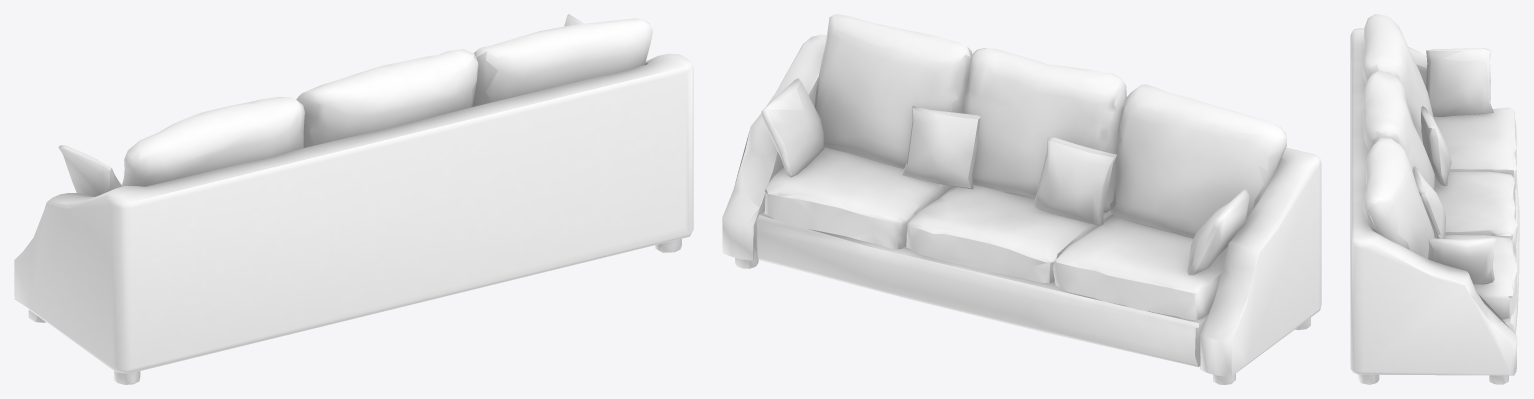
The model's file is Sofa.glb.
3 renders of one model, left to right at view 1: azimuth 30°, elevation 25°; view 2: azimuth 150°, elevation 25°; view 3: azimuth 270°, elevation 25°, orthographic. The views are drawn at different scales.
Parts seen in each view (by area): view 1: Sofa, Sofa.005, Sofa.001; view 2: Sofa, Sofa.004, Sofa.003, Sofa.002, Sofa.005, Sofa.001; view 3: Sofa, Sofa.005, Sofa.002, Sofa.004, Sofa.003, Sofa.001.
Part boxes in pixels (left/top/right/bottom): Sofa: left=14, top=18, right=693, bottom=373; Sofa.005: left=58, top=145, right=121, bottom=196; Sofa.001: left=28, top=238, right=681, bottom=384; Sofa: left=722, top=14, right=1321, bottom=377; Sofa.004: left=1033, top=137, right=1116, bottom=225; Sofa.003: left=902, top=106, right=980, bottom=189; Sofa.002: left=761, top=78, right=824, bottom=177; Sofa.005: left=1187, top=189, right=1249, bottom=275; Sofa.001: left=735, top=257, right=1310, bottom=384; Sofa: left=1350, top=14, right=1519, bottom=375; Sofa.005: left=1425, top=48, right=1493, bottom=116; Sofa.002: left=1428, top=237, right=1495, bottom=284; Sofa.004: left=1421, top=106, right=1451, bottom=185; Sofa.003: left=1412, top=166, right=1445, bottom=238; Sofa.001: left=1358, top=374, right=1508, bottom=384.
Bounding box in the file's own units: 2.2 × 0.8655 × 0.7282.
Materials: 1 (1 with a texture image).
